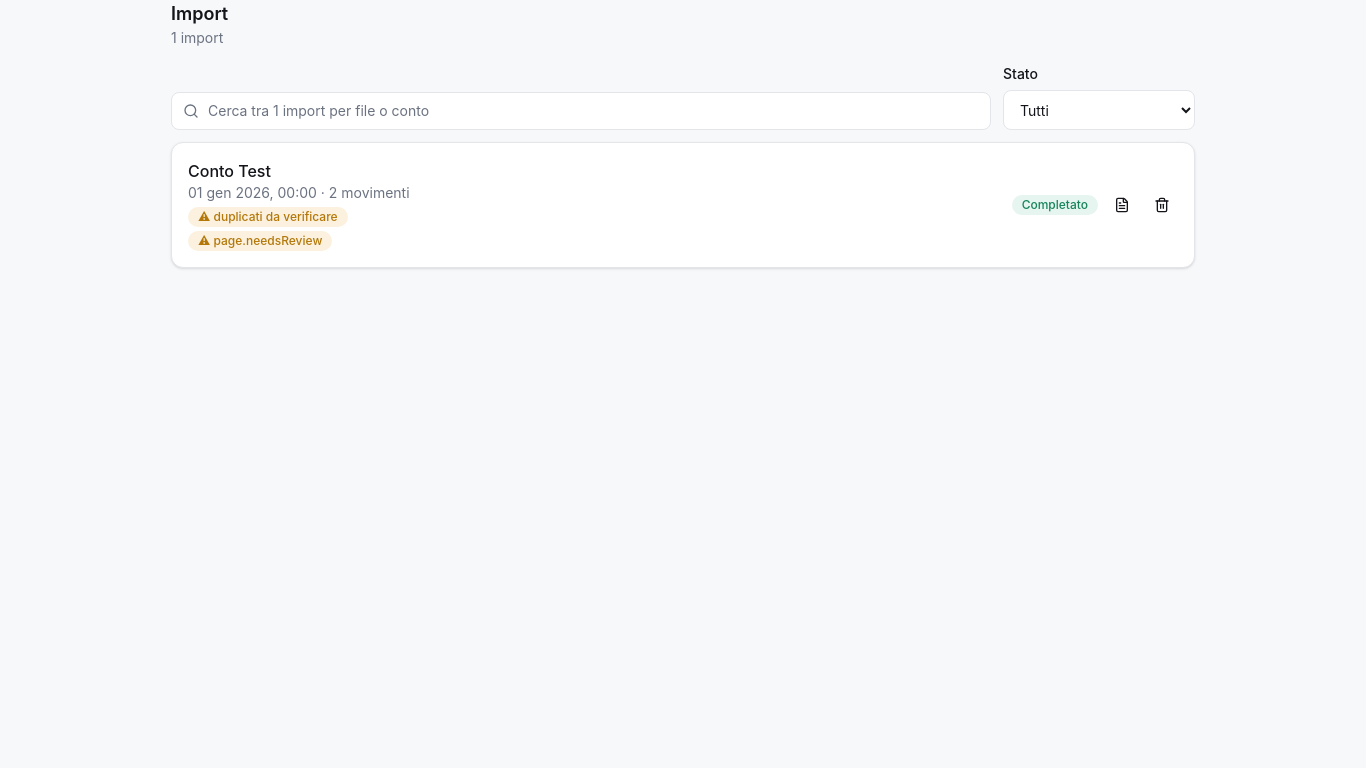
ImportsPage — elimina import › click su Elimina chiama la DELETE e aggiorna la lista
Click the button named "Elimina import" at (1162, 205), box [1146, 189, 1178, 221]
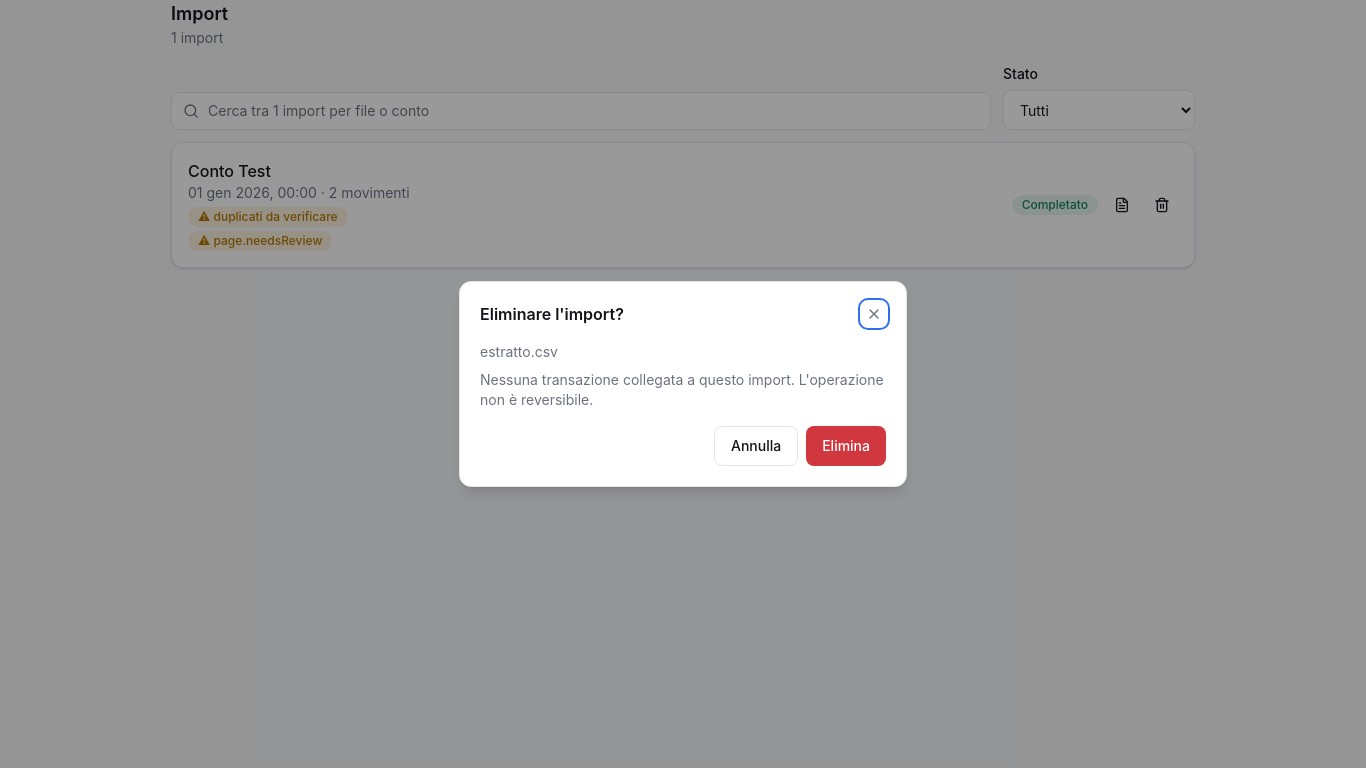
Click the button "Elimina" at (846, 446), box [806, 426, 886, 466]
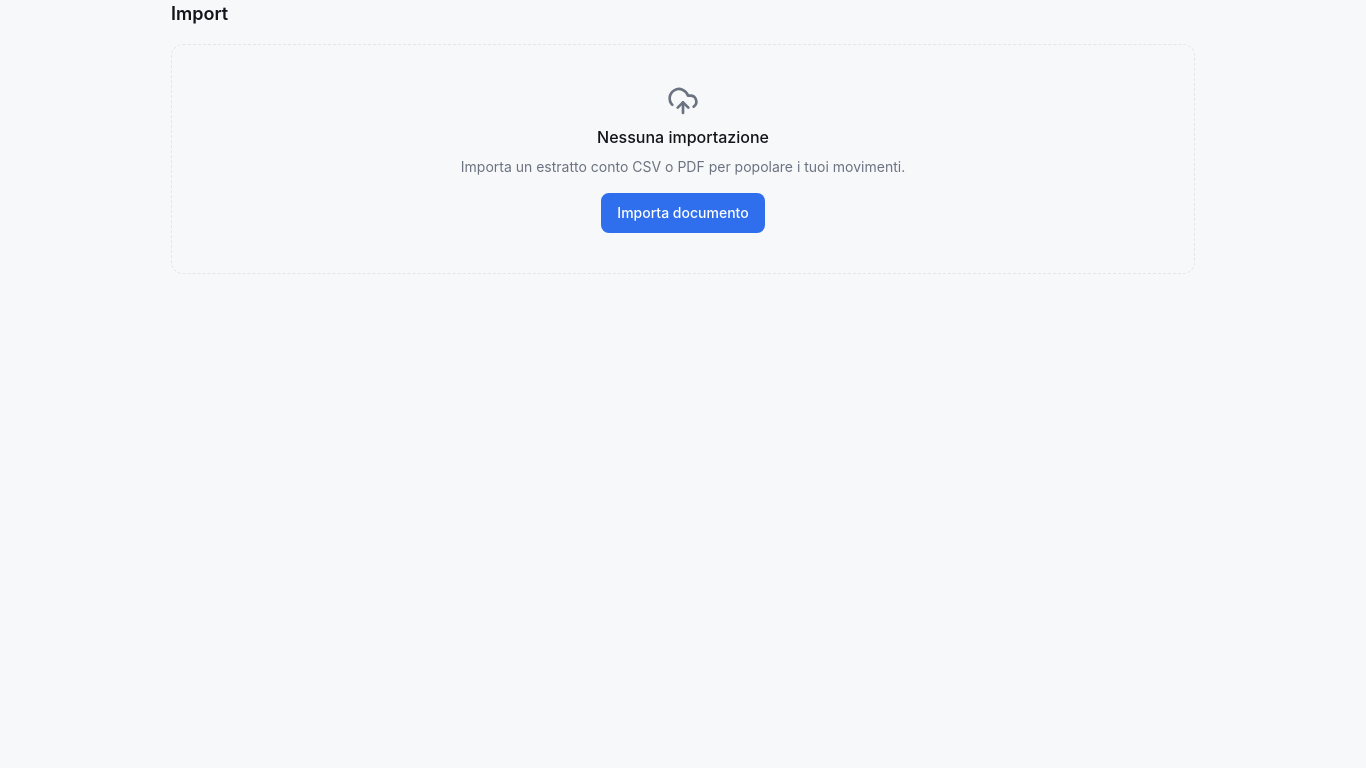
expect the text "Nessuna importazione" is shown: met, box [597, 125, 769, 149]
